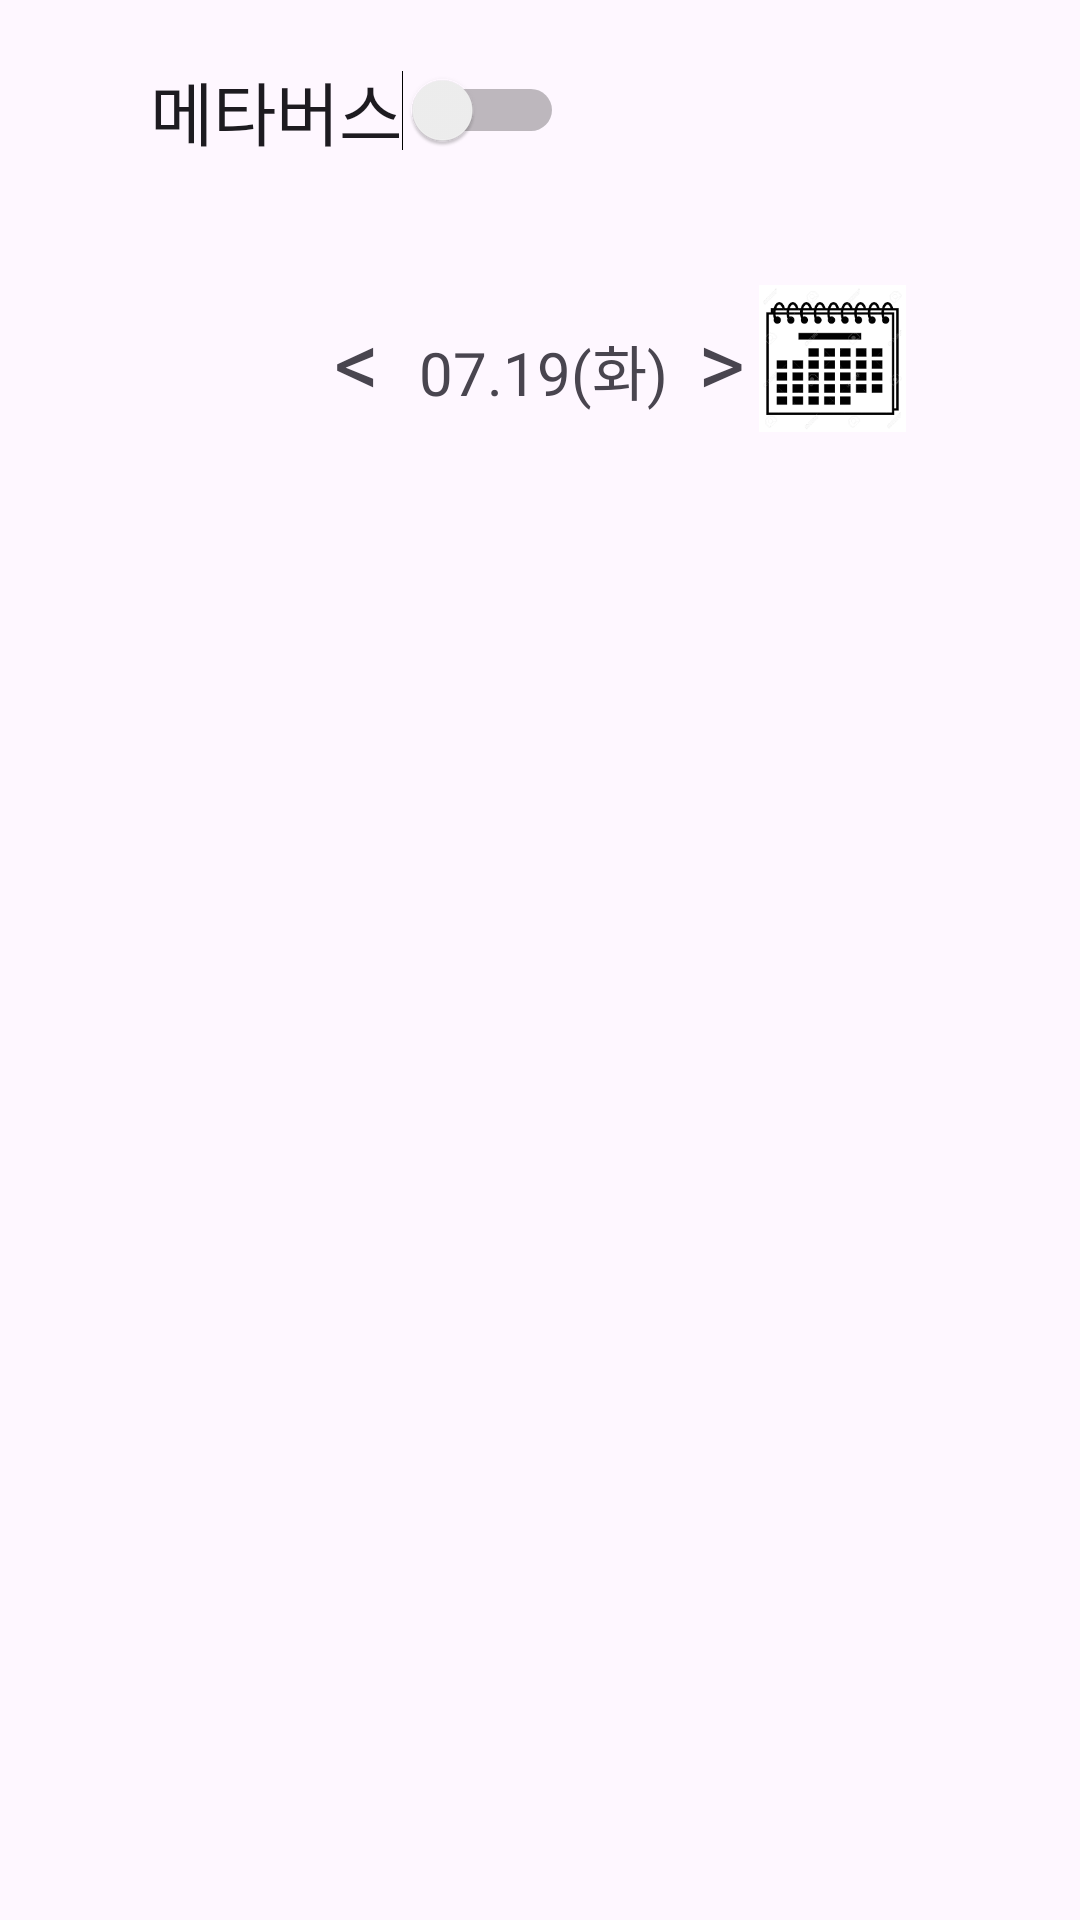

Icons on this 1080 × 1920 Android screen, each with its box as bbox=(x1, y1, x2, y2):
calendar: bbox=(766, 302, 899, 415)
